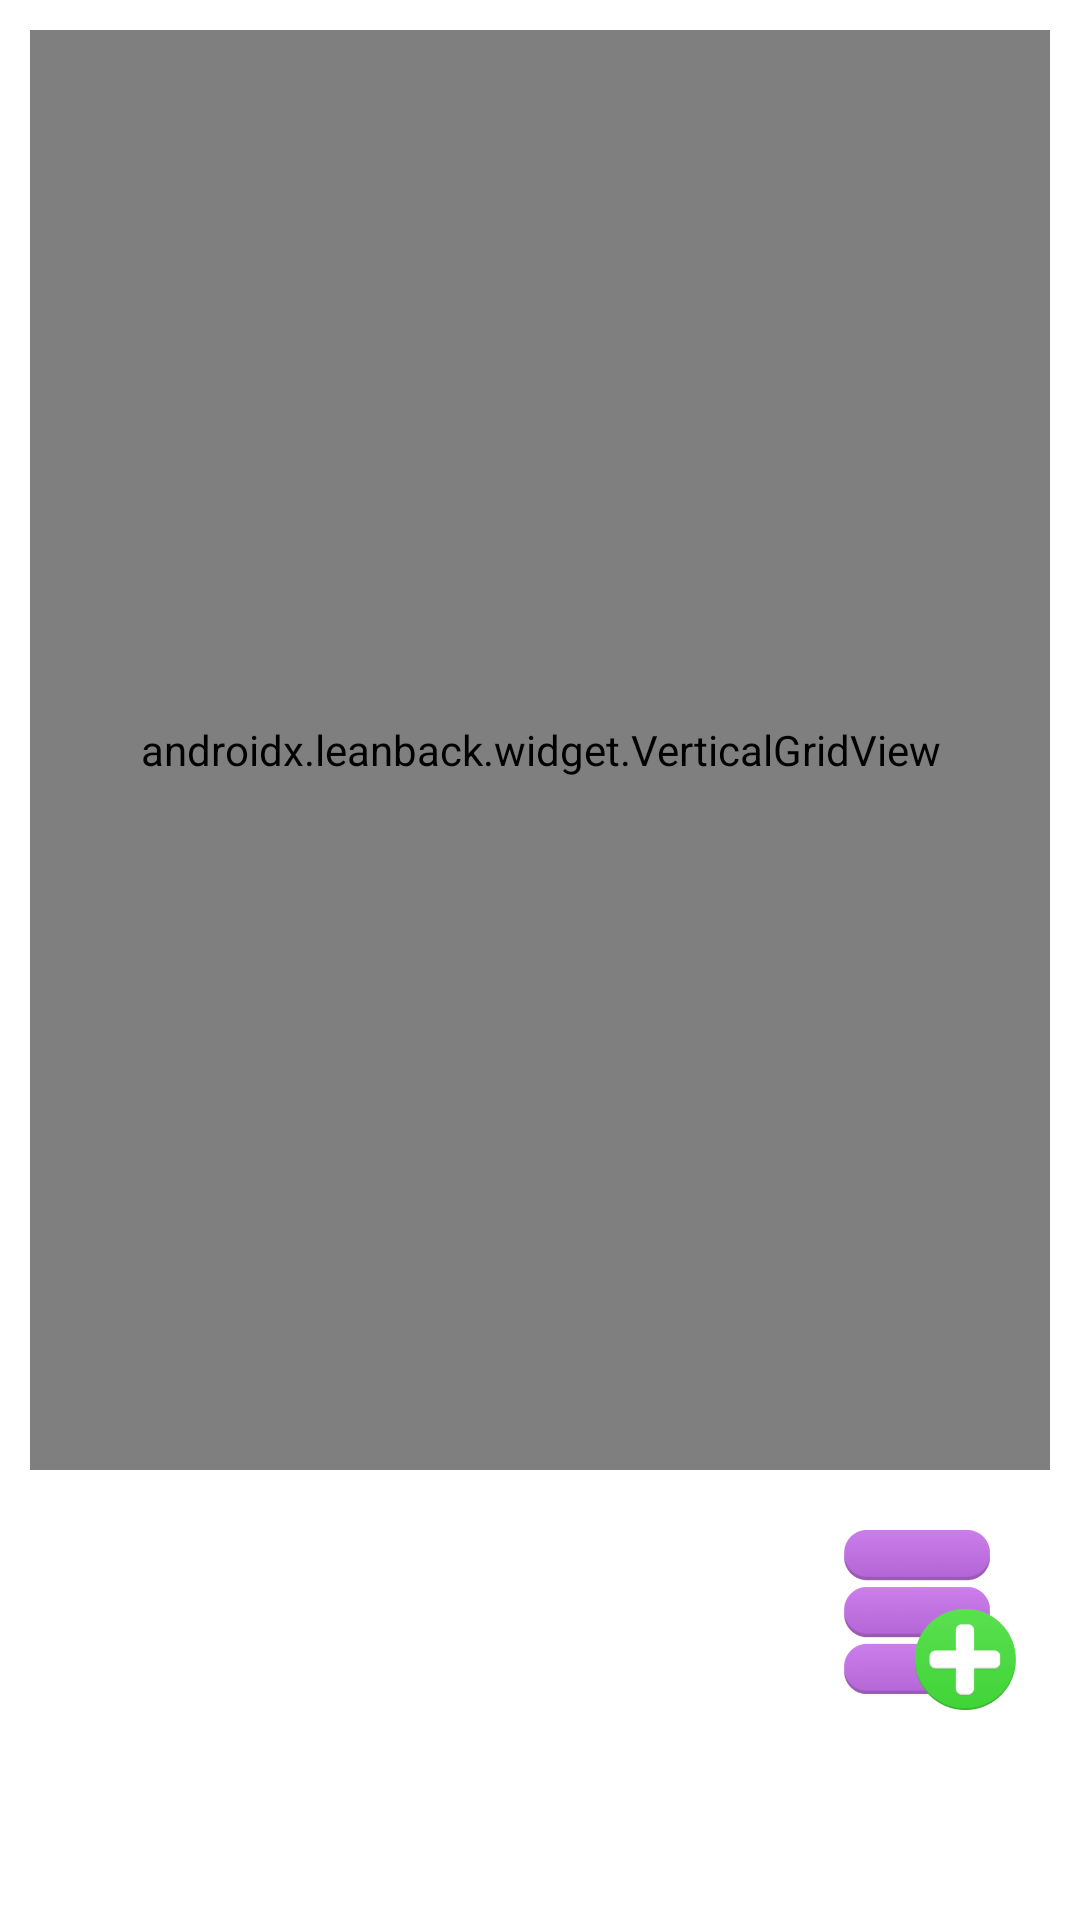

Screen size 1080px x 1920px. Icon name, then its center in pixels as (x=x, y=y):
add: (x=930, y=1620)
